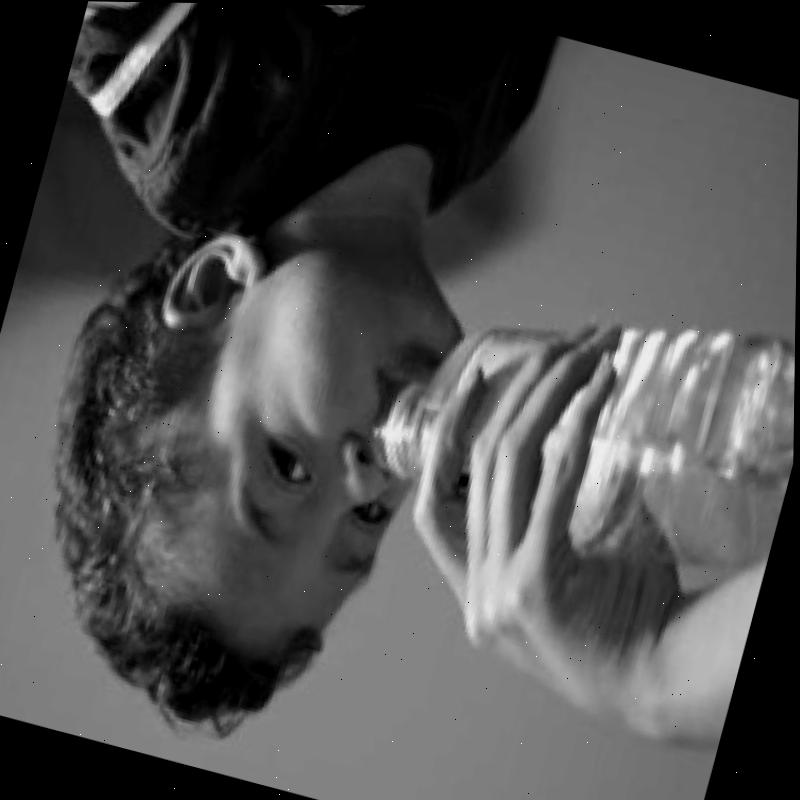botella: (365, 240, 797, 592)
